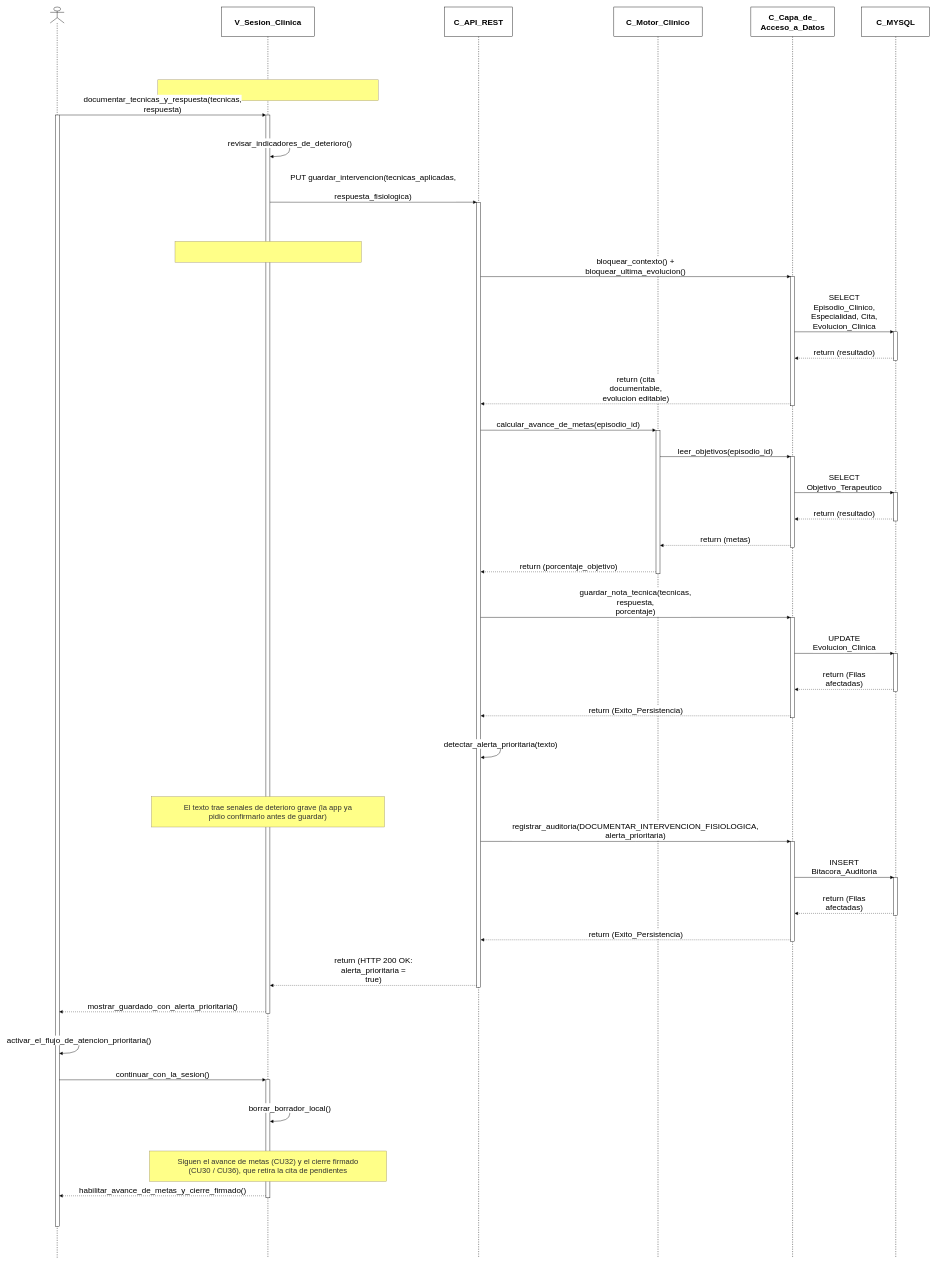
This 937x1265 diagram has some shape labels left out. The box of each missing label's shape, as (x1, y1, x2, y2) in pixels:
Los pasos anteriores son los del flujo principal: (157, 79, 378, 101)
Profesional: (50, 7, 64, 1258)
Se abre una transacción (BEGIN … COMMIT): (175, 241, 361, 262)
